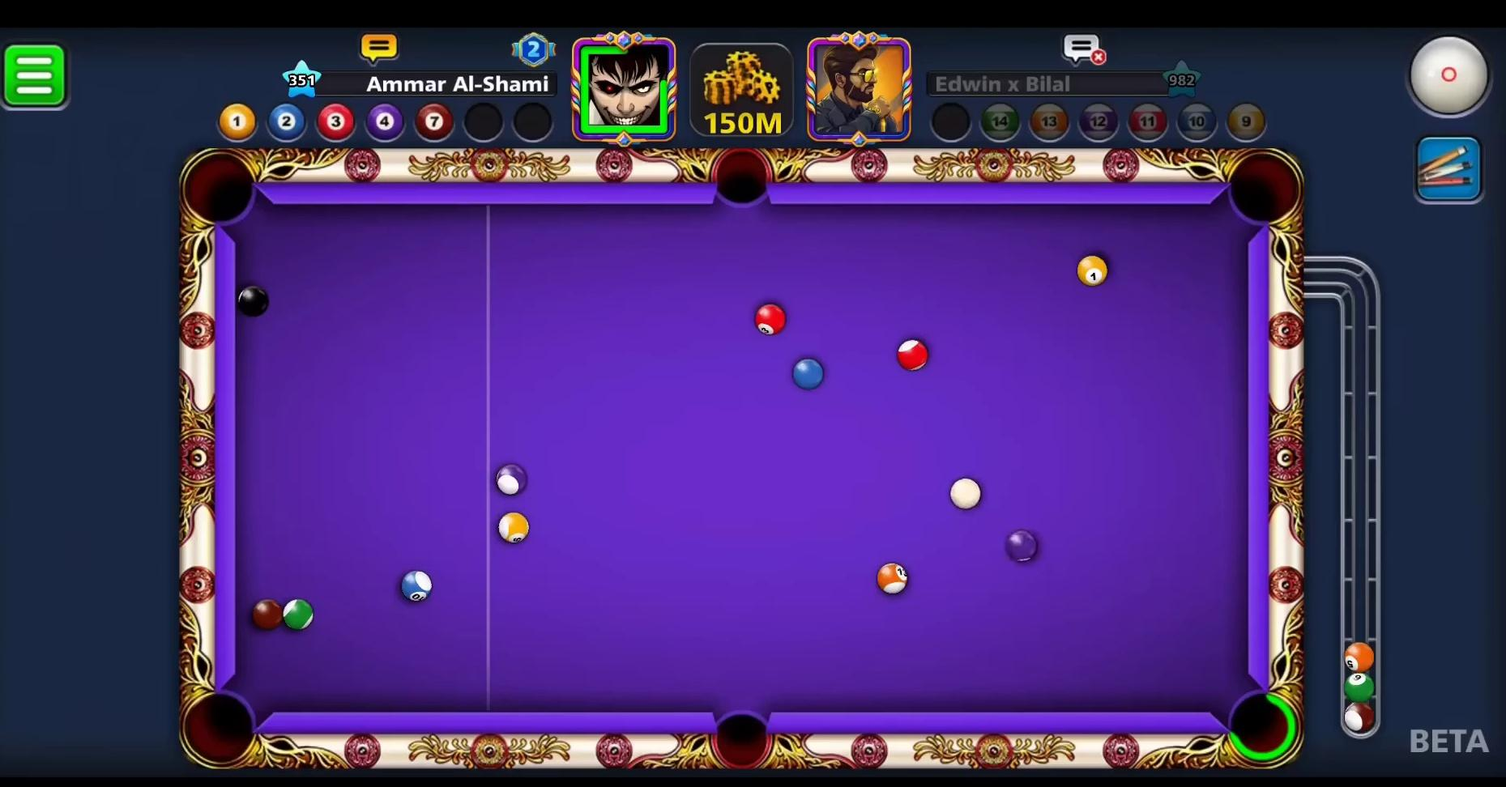Ball: (490, 503, 539, 554), (393, 562, 442, 612), (225, 283, 278, 324), (999, 525, 1046, 570), (244, 591, 289, 636), (488, 458, 536, 500), (871, 554, 912, 602), (1070, 253, 1118, 293), (744, 301, 790, 338), (894, 336, 935, 373), (787, 355, 825, 391)
Hole: (175, 138, 266, 234), (1217, 683, 1305, 775), (1220, 141, 1304, 236), (174, 687, 267, 772), (702, 143, 783, 223), (705, 695, 781, 777)
Play_Area: (233, 204, 1241, 717)
Spin: (1402, 27, 1503, 129)
White: (943, 470, 990, 519)
